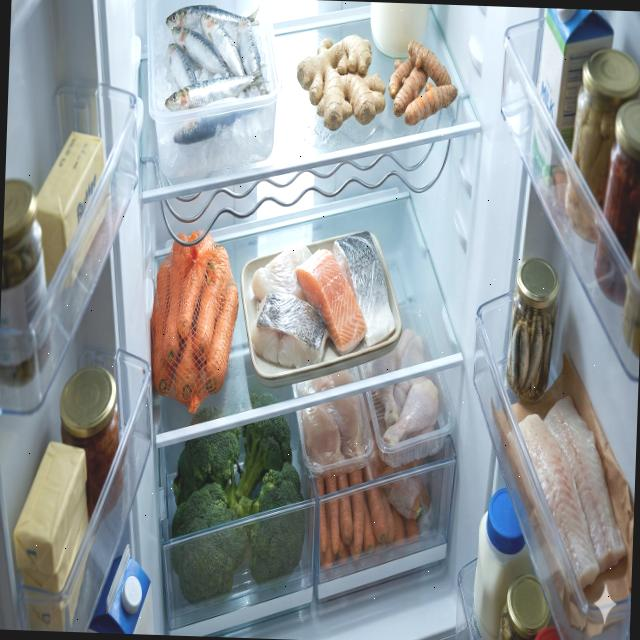brocolli: (168, 389, 310, 613)
carrot: (147, 230, 240, 406), (313, 459, 422, 571)
chicken: (362, 326, 441, 447), (295, 368, 367, 467)
fish: (502, 393, 632, 596), (248, 226, 399, 372), (161, 0, 271, 146)
ginger: (295, 32, 388, 132)
turmeric: (387, 39, 459, 128)
